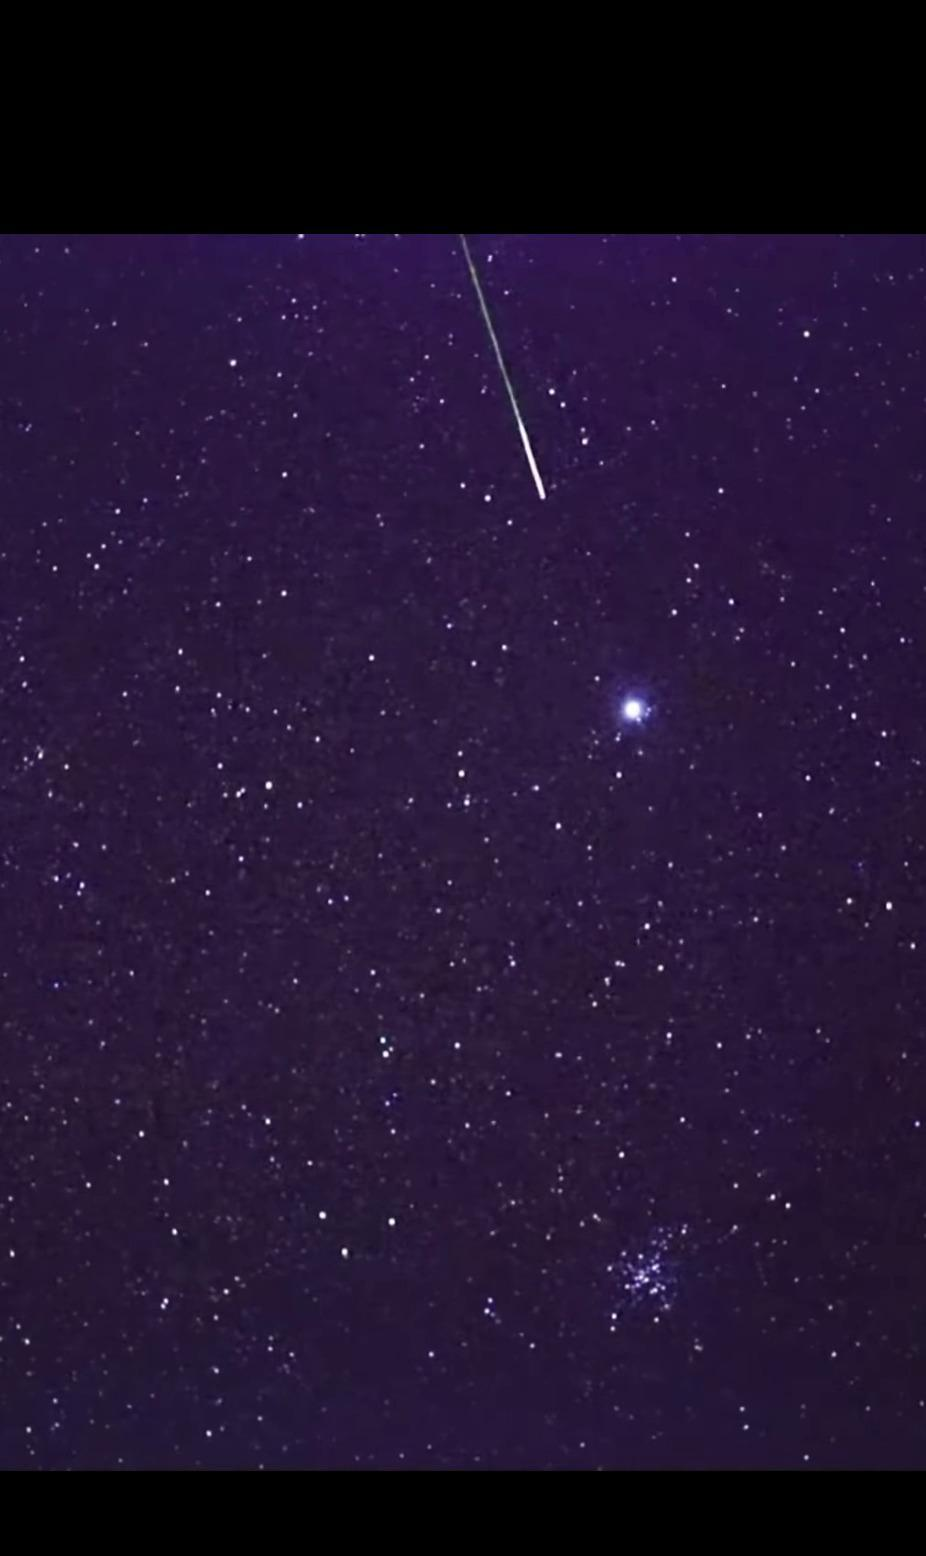meteorite: (464, 230, 566, 516)
